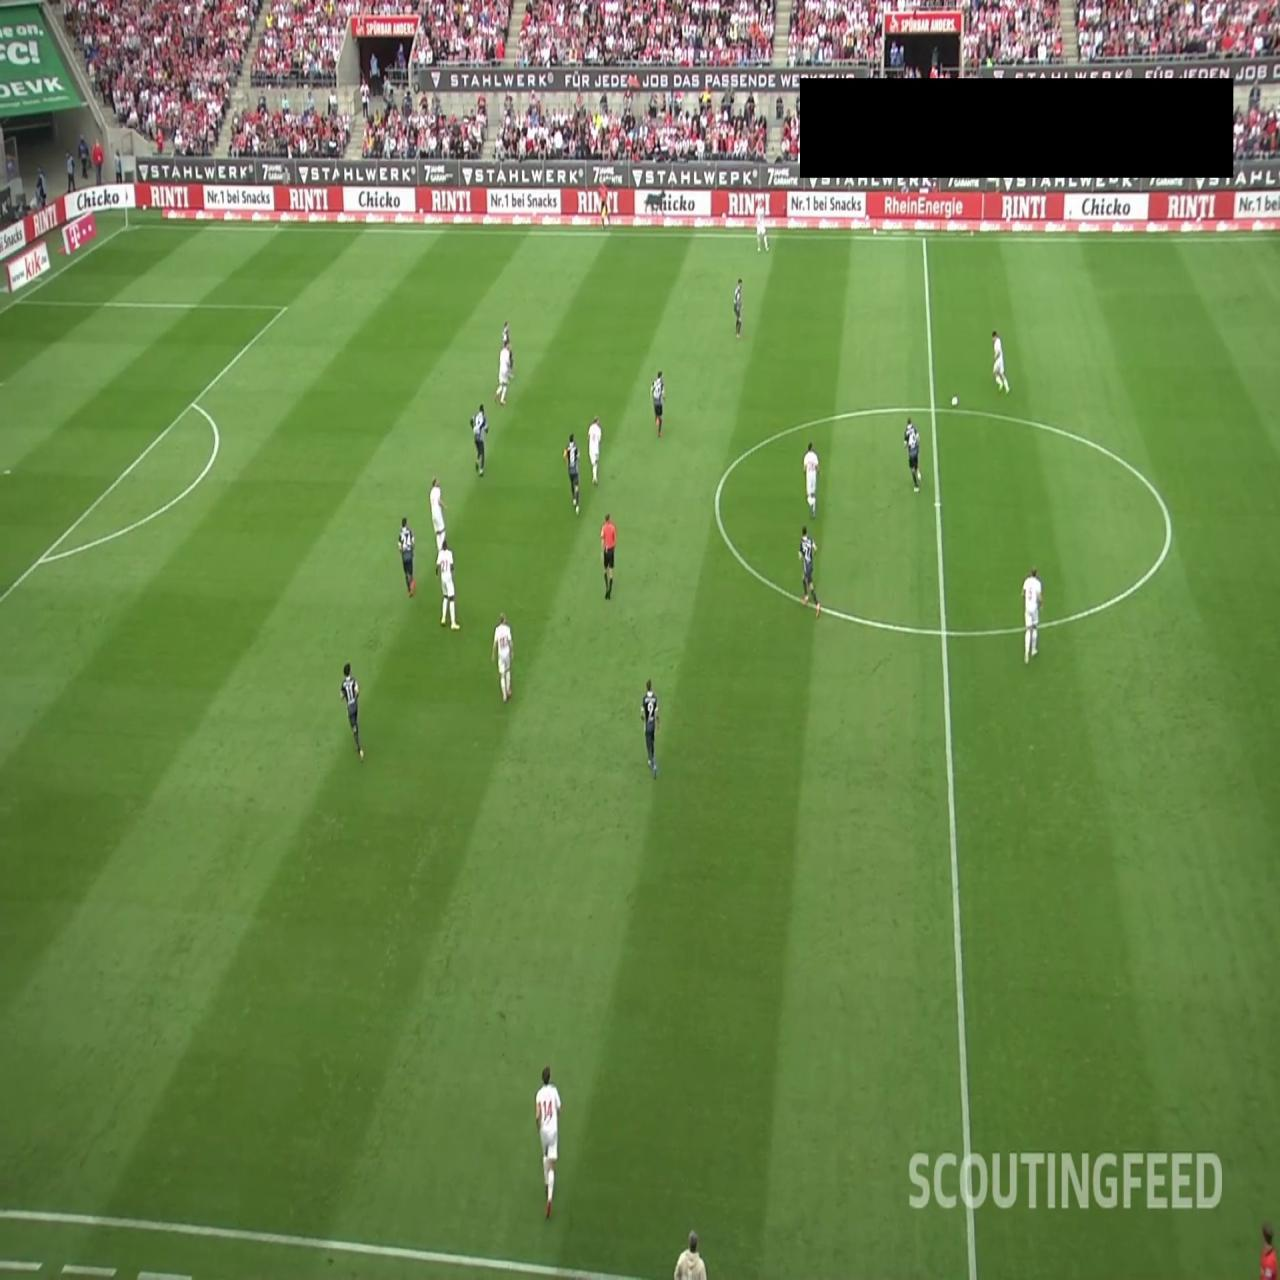Ball: (951, 394, 958, 408)
Player: (535, 1064, 562, 1218), (339, 661, 364, 760), (435, 538, 460, 631), (798, 525, 822, 619), (1021, 565, 1043, 664), (491, 610, 514, 703), (640, 678, 661, 779), (429, 475, 449, 556), (562, 432, 581, 516), (398, 516, 416, 598), (802, 441, 821, 518), (494, 338, 514, 406), (904, 417, 922, 492), (471, 402, 488, 476), (991, 329, 1010, 394), (587, 414, 602, 484), (498, 318, 514, 382), (651, 368, 665, 438), (756, 202, 770, 254), (734, 277, 744, 338)
Referee: (600, 512, 617, 600), (1259, 1222, 1278, 1279), (598, 178, 610, 231)
